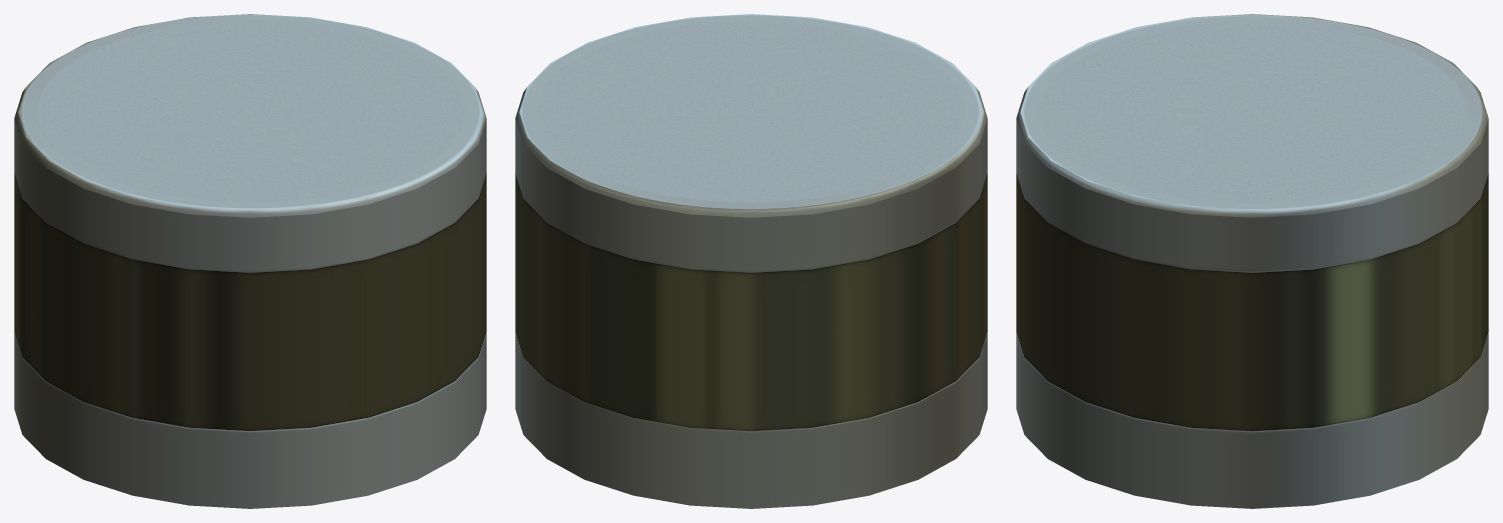
File: lidar_3d.dae
The picture shows the model from 3 angles, left to right: view 1: azimuth 30°, elevation 25°; view 2: azimuth 150°, elevation 25°; view 3: azimuth 270°, elevation 25°; orthographic projection.
Parts seen in each view (by area): view 1: Lidar_01; view 2: Lidar_01; view 3: Lidar_01.
Boxes of the visible parts, x1,y1,x2,y2 form: Lidar_01: [14, 14, 486, 508]; Lidar_01: [515, 14, 987, 508]; Lidar_01: [1016, 14, 1488, 508].
Bounding box in the file's own units: 10.33 × 10.33 × 7.17.
1 material, 1 textured.
